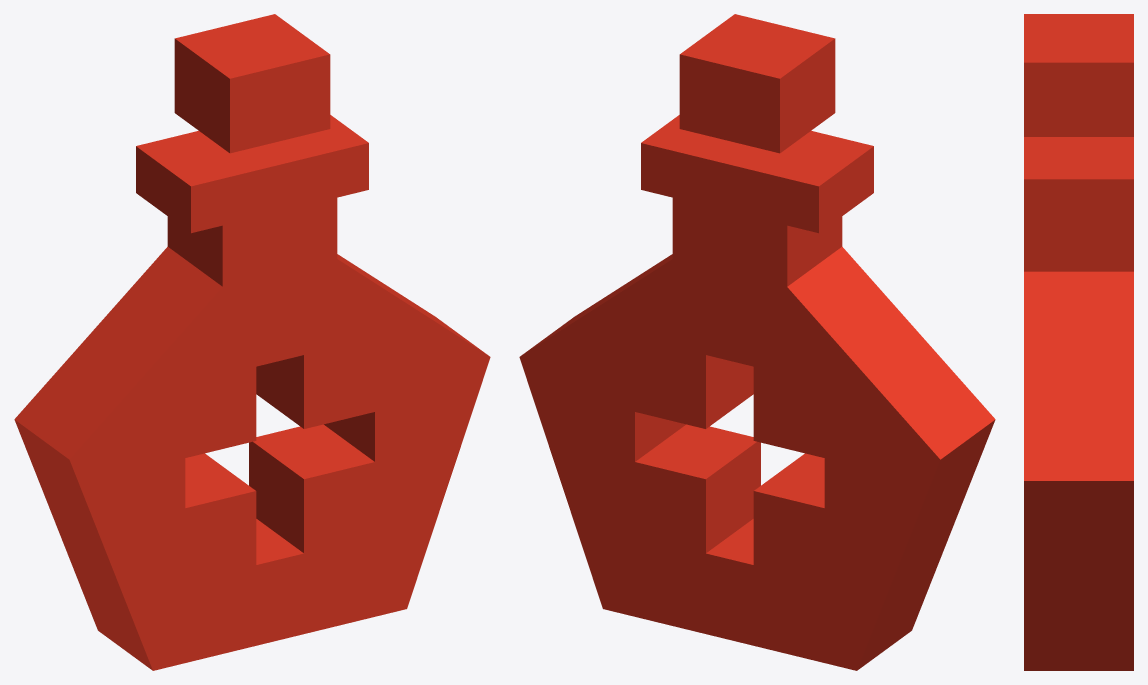
The model's file is Icon_Potion_07.fbx.
3 renders of one model, left to right at view 1: azimuth 30°, elevation 25°; view 2: azimuth 150°, elevation 25°; view 3: azimuth 270°, elevation 25°, orthographic.
Parts seen in each view (by area): view 1: Icon_Potion_07; view 2: Icon_Potion_07; view 3: Icon_Potion_07.
Boxes of the visible parts, bbox=[...] form: Icon_Potion_07: bbox=[14, 14, 490, 670]; Icon_Potion_07: bbox=[519, 14, 995, 670]; Icon_Potion_07: bbox=[1024, 14, 1133, 670].
Size of the model in its own units: 53.2 by 69.22 by 12.06.
